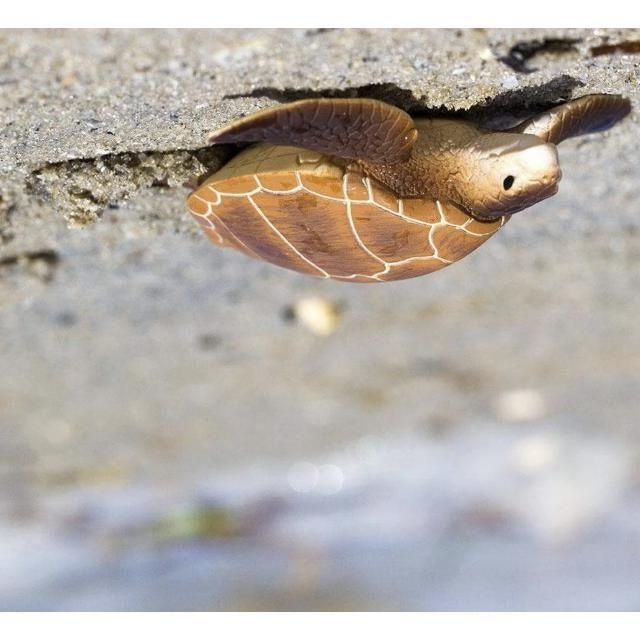turtle: (182, 91, 632, 283)
